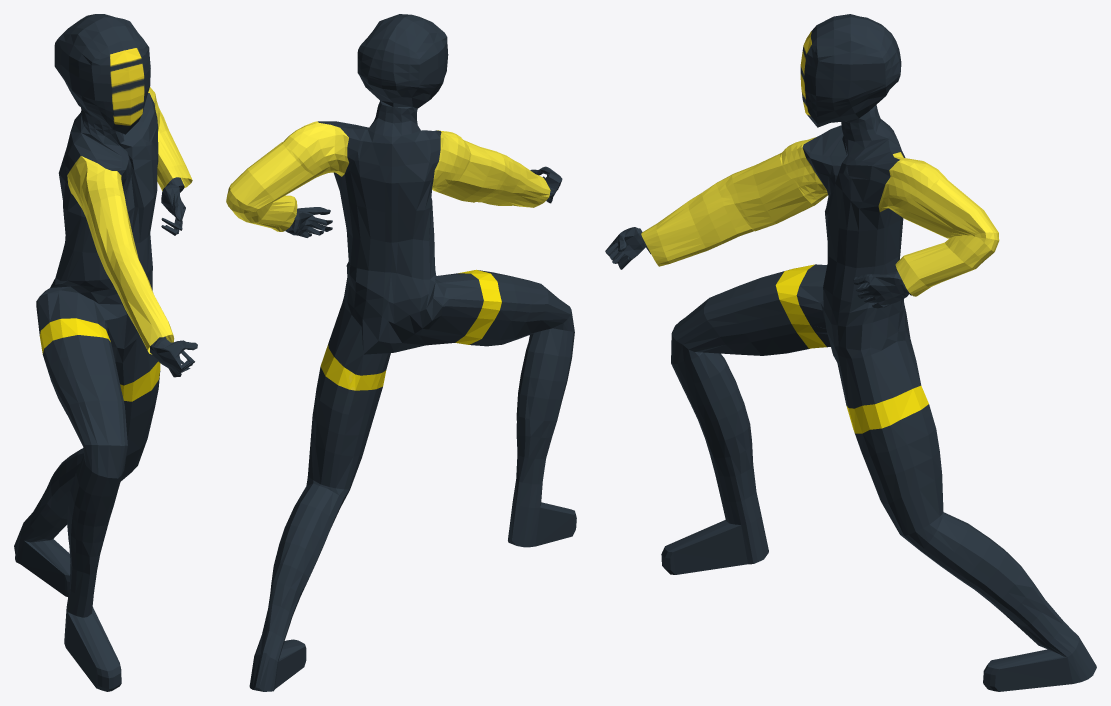
The model's file is Sentry_WL_000021.obj.
3 renders of one model, left to right at view 1: azimuth 30°, elevation 25°; view 2: azimuth 150°, elevation 25°; view 3: azimuth 270°, elevation 25°, orthographic. The views are drawn at different scales.
Visible parts, largest first — view 1: Cube; view 2: Cube; view 3: Cube.
Boxes of the visible parts, <box> form: Cube: <box>14,14,197,691</box>; Cube: <box>226,14,576,691</box>; Cube: <box>605,14,1096,691</box>.
Size of the model in its own units: 1.3 by 3.6 by 2.47.
